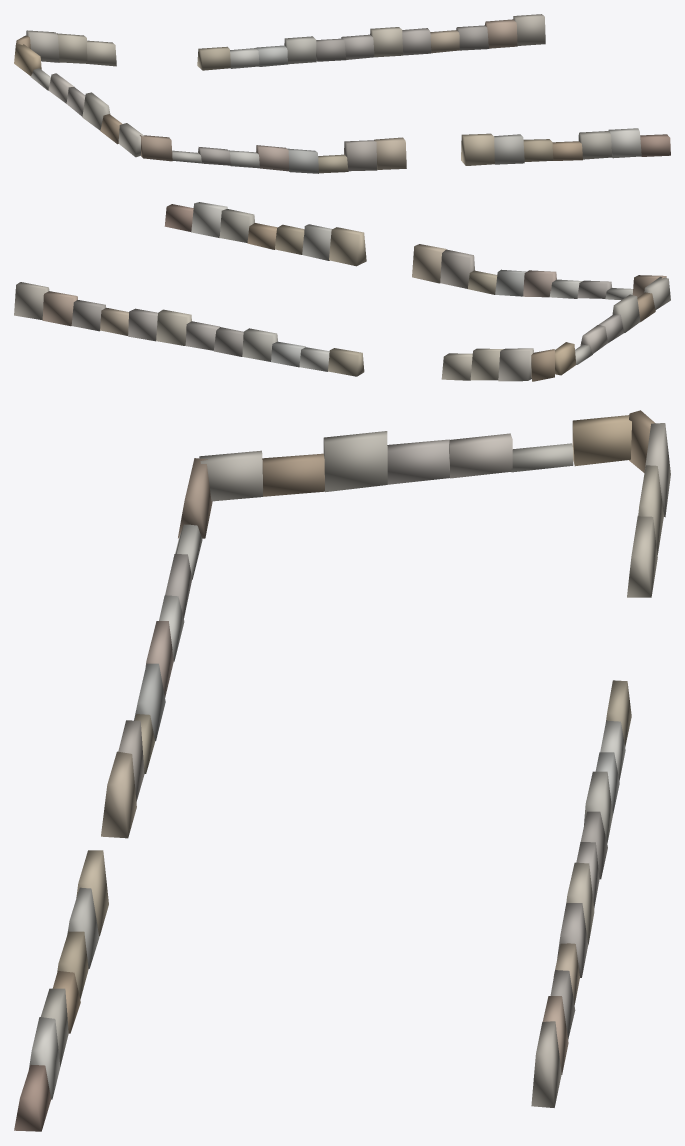
Rendered from farm_-50_-46_far.glb.
3 views of the same model, one above another, from view 1: azimuth 30°, elevation 25°; view 2: azimuth 150°, elevation 25°; view 3: azimuth 270°, elevation 25° (orthographic). The views are drawn at different scales.
Visible parts, largest first — view 1: geometry_0; view 2: geometry_0; view 3: geometry_0.
Boxes of the visible parts, <box> form: geometry_0: <box>14,14,670,173</box>; geometry_0: <box>14,202,670,381</box>; geometry_0: <box>14,410,670,1131</box>.
Size of the model in its own units: 29.77 by 6.86 by 16.83.
